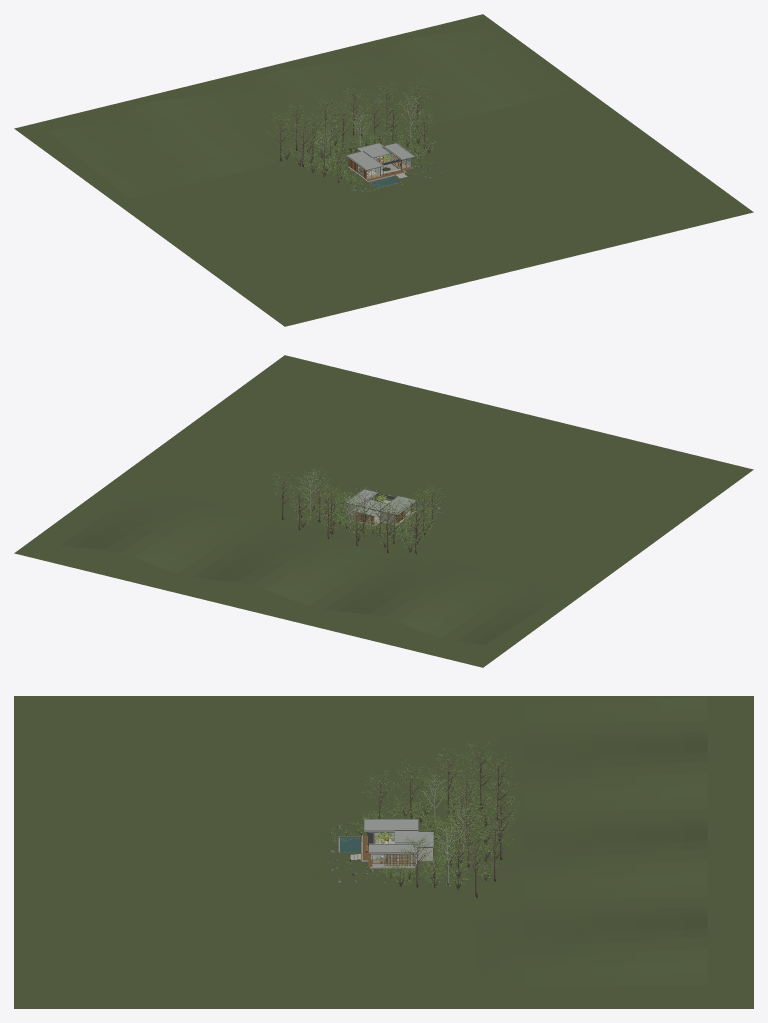
Rendered from house-draco.glb.
3 renders of one model, top to bottom at view 1: azimuth 30°, elevation 25°; view 2: azimuth 150°, elevation 25°; view 3: azimuth 270°, elevation 25°, orthographic. The views are drawn at different scales.
Parts seen in each view (by area): view 1: landscape_mesh, roof_mesh, architecture_mesh; view 2: landscape_mesh, roof_mesh, architecture_mesh; view 3: landscape_mesh, roof_mesh, architecture_mesh.
Part boxes in pixels (x1,y1,x2,y2): landscape_mesh: (14,14,753,326); roof_mesh: (345,143,415,170); architecture_mesh: (347,150,414,188); landscape_mesh: (14,355,753,667); roof_mesh: (345,489,416,516); architecture_mesh: (348,494,423,525); landscape_mesh: (14,696,753,1008); roof_mesh: (364,819,433,853); architecture_mesh: (338,832,433,868).
Bounding box in the file's own units: 160 × 16.7 × 160.
